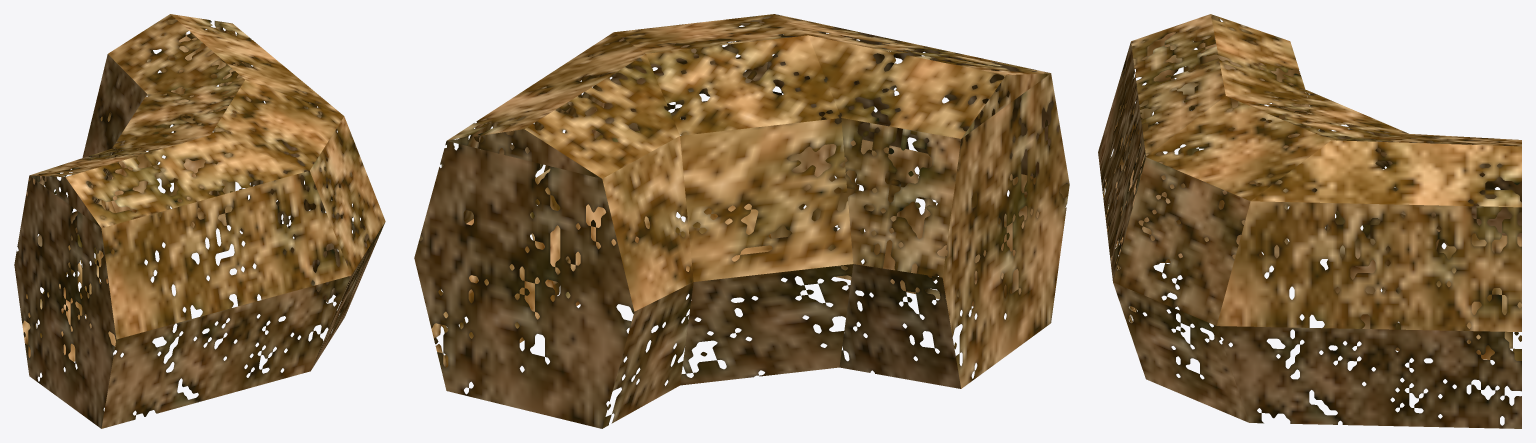
Rendered from bush_round_corner_autumn.fbx.
3 renders of one model, left to right at view 1: azimuth 30°, elevation 25°; view 2: azimuth 150°, elevation 25°; view 3: azimuth 270°, elevation 25°, orthographic. The views are drawn at different scales.
Visible parts, largest first — view 1: bush_round_corner_autumn; view 2: bush_round_corner_autumn; view 3: bush_round_corner_autumn.
Part boxes in pixels (left/top/right/bottom): bush_round_corner_autumn: left=14, top=14, right=385, bottom=428; bush_round_corner_autumn: left=414, top=14, right=1069, bottom=428; bush_round_corner_autumn: left=1098, top=14, right=1521, bottom=428.
Size of the model in its own units: 136 by 87.65 by 135.
Materials: 1 (1 with a texture image).
